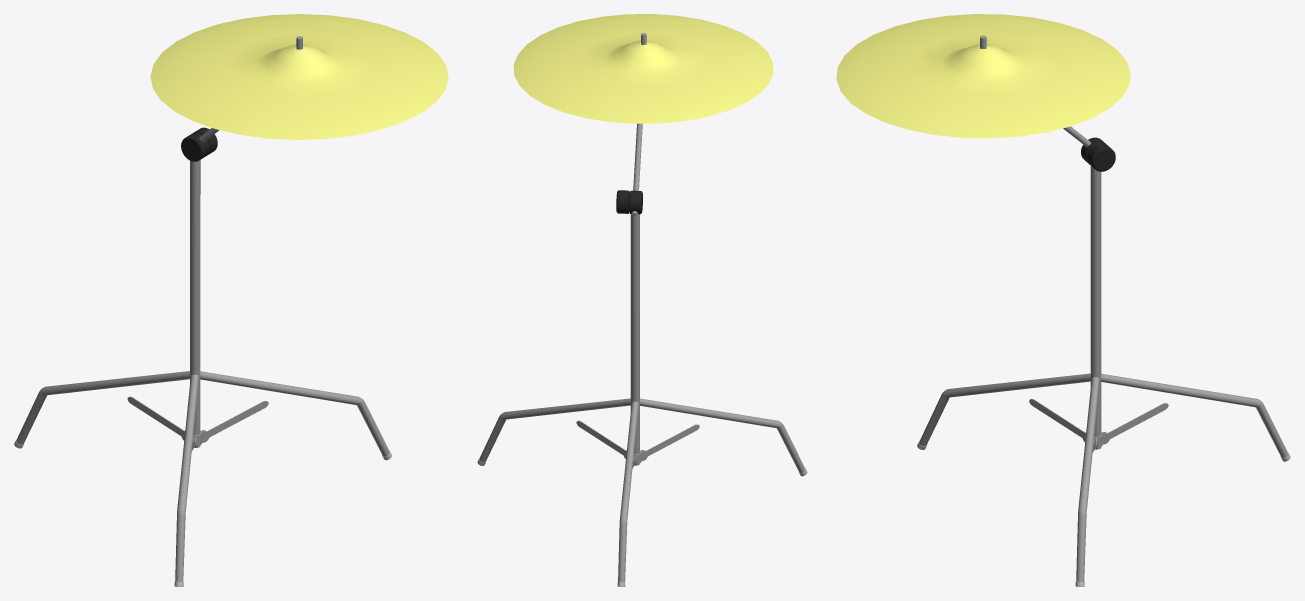
Rendered from cymbal.fbx.
3 renders of one model, left to right at view 1: azimuth 30°, elevation 25°; view 2: azimuth 150°, elevation 25°; view 3: azimuth 270°, elevation 25°, orthographic. The views are drawn at different scales.
Parts seen in each view (by area): view 1: Cymbal; view 2: Cymbal; view 3: Cymbal.
Boxes of the visible parts, x1,y1,x2,y2 form: Cymbal: (14,14,448,586); Cymbal: (477,14,807,586); Cymbal: (836,14,1290,586).
Bounding box in the file's own units: 239 × 377 × 320.
